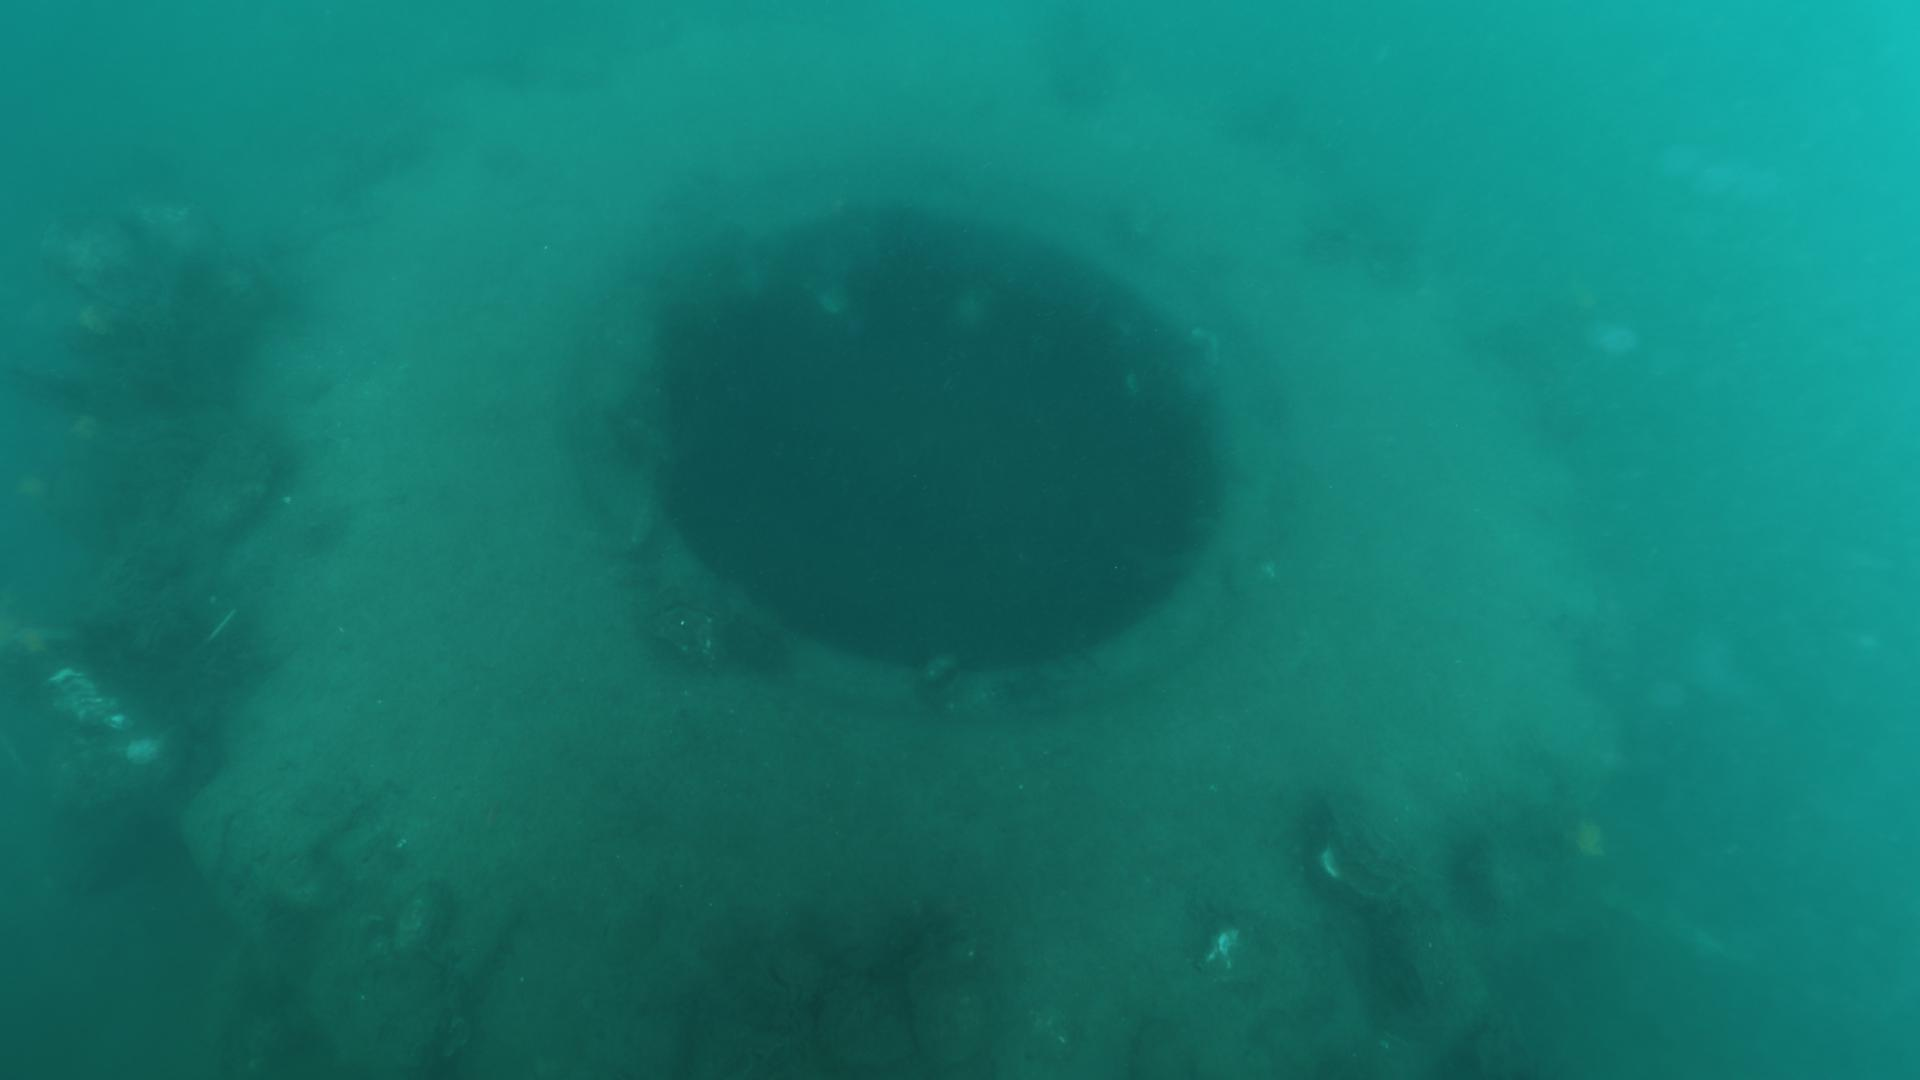tire: (182, 0, 1625, 1080)
